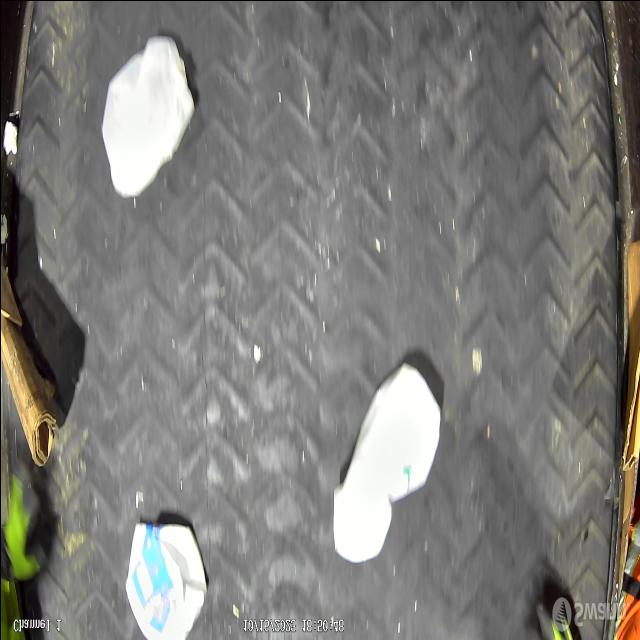milk_jug: (332, 364, 440, 562), (101, 34, 195, 196), (125, 522, 206, 640)
